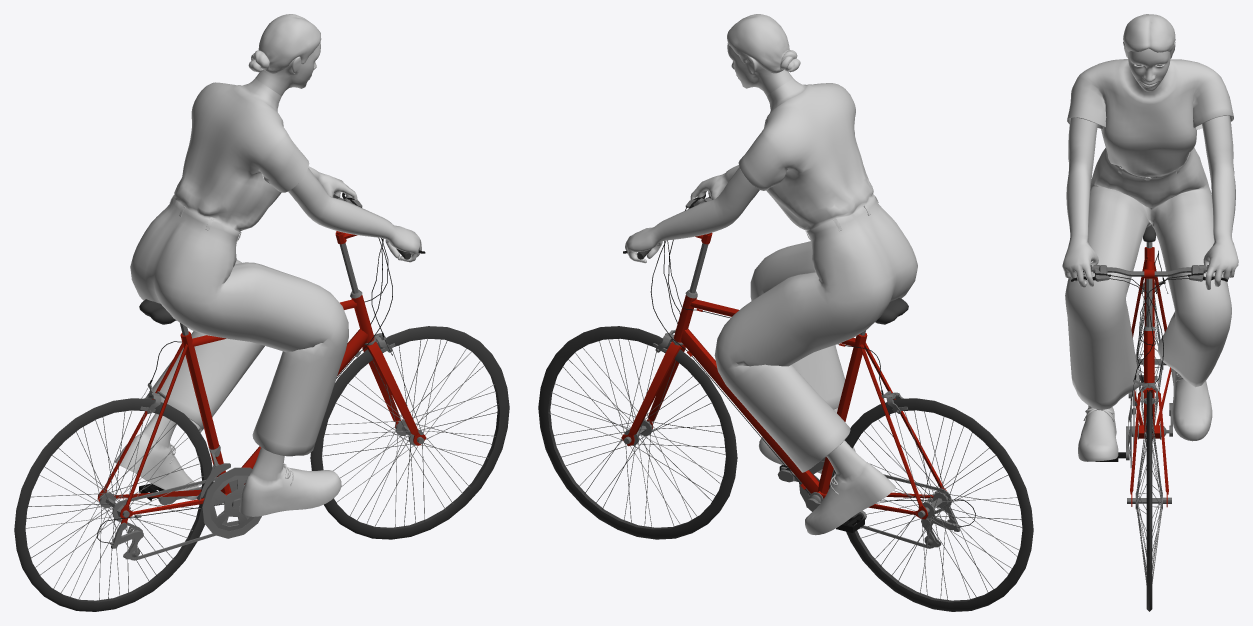
Rendered from sm_giant_bicycle_lod_2.fbx.
The picture shows the model from 3 angles, left to right: view 1: azimuth 30°, elevation 25°; view 2: azimuth 150°, elevation 25°; view 3: azimuth 270°, elevation 25°; orthographic projection. The views are drawn at different scales.
Parts seen in each view (by area): view 1: sm_giant_bicycle_lod_3; view 2: sm_giant_bicycle_lod_3; view 3: sm_giant_bicycle_lod_3.
Boxes of the visible parts, x1,y1,x2,y2 form: sm_giant_bicycle_lod_3: (14,14,509,611); sm_giant_bicycle_lod_3: (538,14,1033,611); sm_giant_bicycle_lod_3: (1062,14,1238,611).
Size of the model in its own units: 1.67 by 1.77 by 0.5333.
